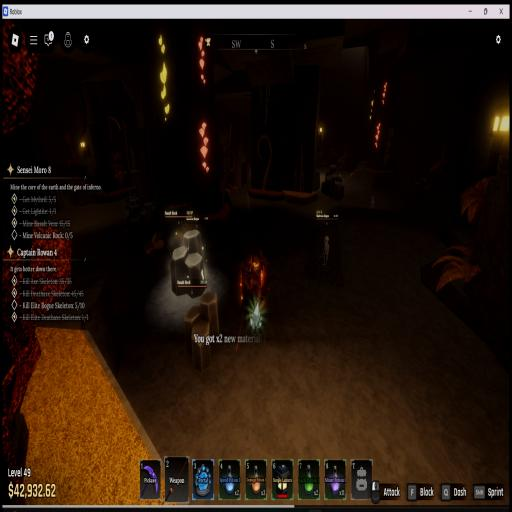player: (241, 249, 268, 309)
rock: (184, 292, 223, 372), (170, 229, 206, 296), (123, 187, 155, 245), (171, 246, 188, 294), (321, 173, 344, 200), (127, 214, 142, 245), (413, 178, 430, 199), (328, 148, 338, 168), (337, 156, 345, 170), (329, 164, 337, 175), (317, 151, 323, 163)
